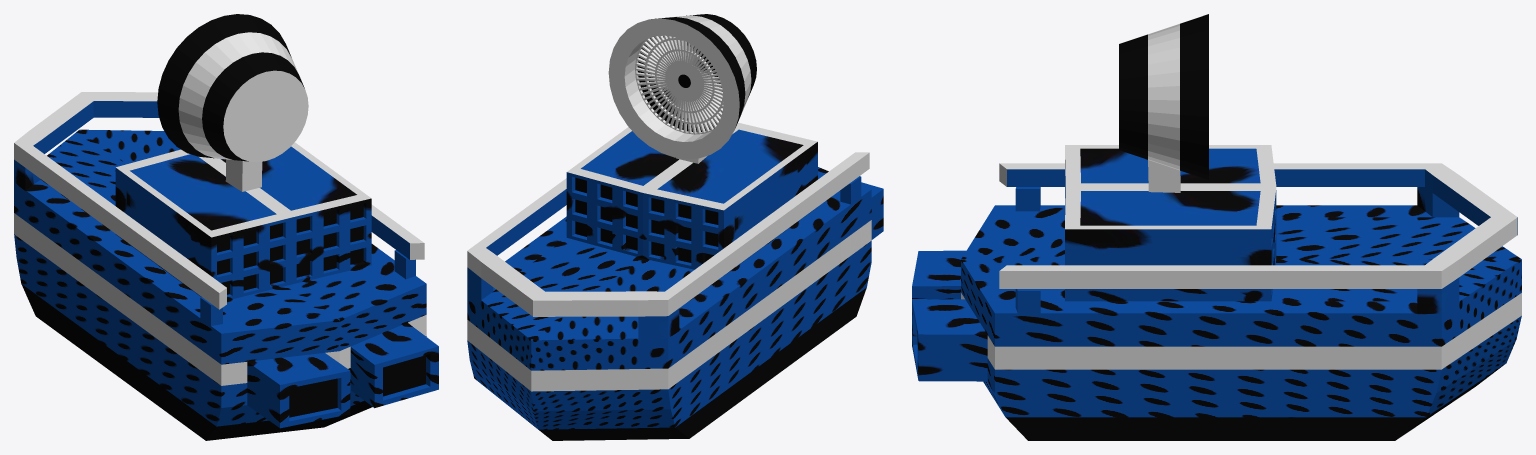
The model's file is BLUE_DestroyerASW.fbx.
3 views of the same model, side by side, from view 1: azimuth 30°, elevation 25°; view 2: azimuth 150°, elevation 25°; view 3: azimuth 270°, elevation 25° (orthographic). The views are drawn at different scales.
Visible parts, largest first — view 1: Cube, Cylinder; view 2: Cube, Cylinder; view 3: Cube, Cylinder.
Part boxes in pixels (bbox=[...]): Cube: bbox=[14, 92, 438, 440]; Cylinder: bbox=[157, 14, 308, 191]; Cube: bbox=[467, 122, 883, 440]; Cylinder: bbox=[608, 14, 756, 163]; Cube: bbox=[912, 145, 1521, 440]; Cylinder: bbox=[1119, 14, 1208, 192].
Bounding box in the file's own units: 362 × 572 × 866.
